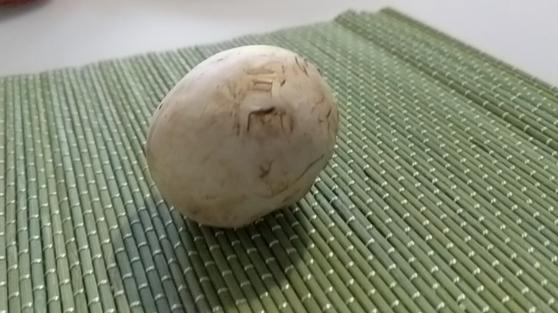champignon: (145, 40, 338, 228)
